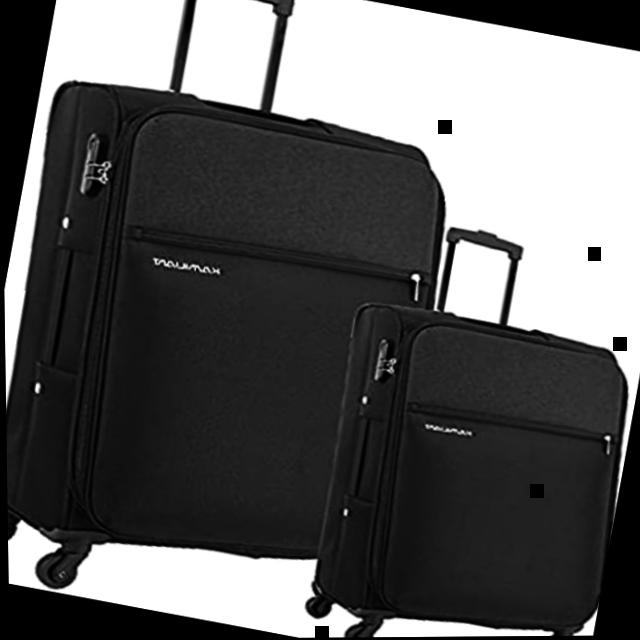luggage: (1, 58, 485, 612), (285, 286, 640, 638)
